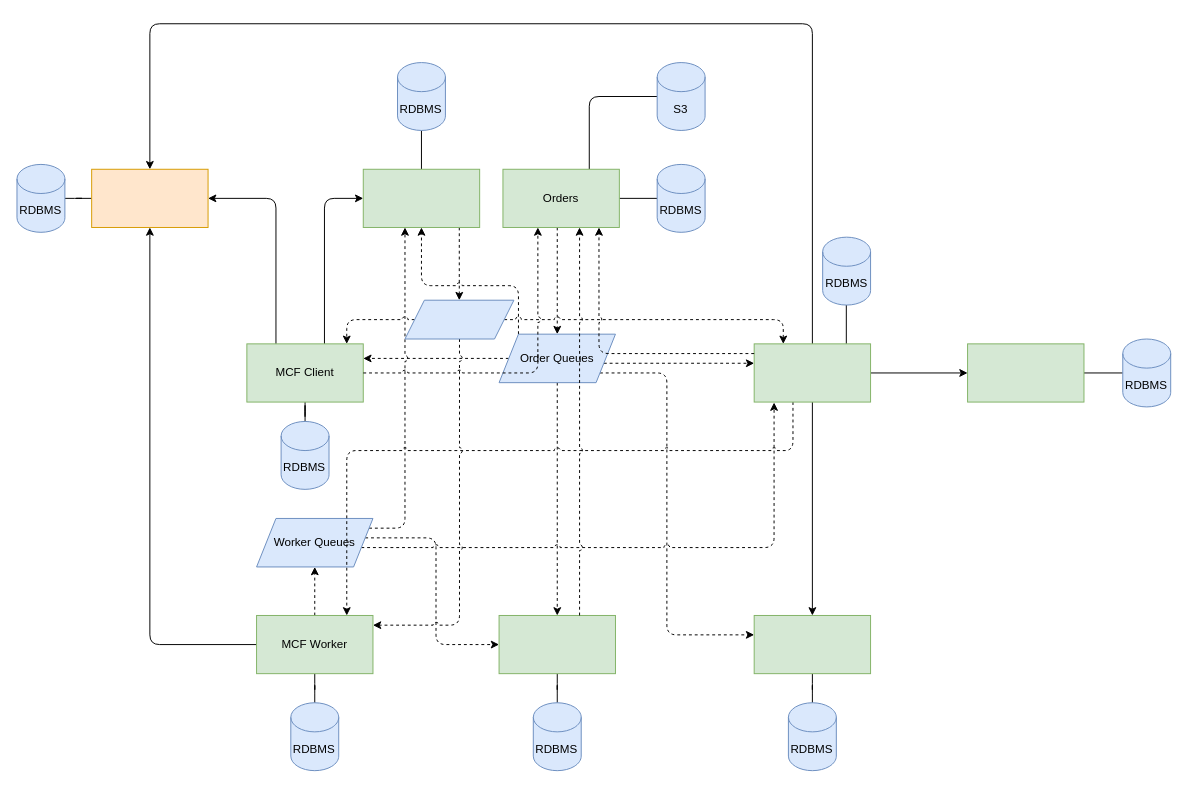
This 1188x788 diagram has some shape labels left out. Each missing label, with the centre of its shape:
"1XBet" belongs at [812,644].
"Auth" belongs at [149,197].
"Billing Queues" belongs at [459,319].
"Billing, PreBilling" belongs at [421,197].
"Matching" belongs at [556,644].
"MCF Manager" belongs at [812,372].
"Testing" belongs at [1025,372].
